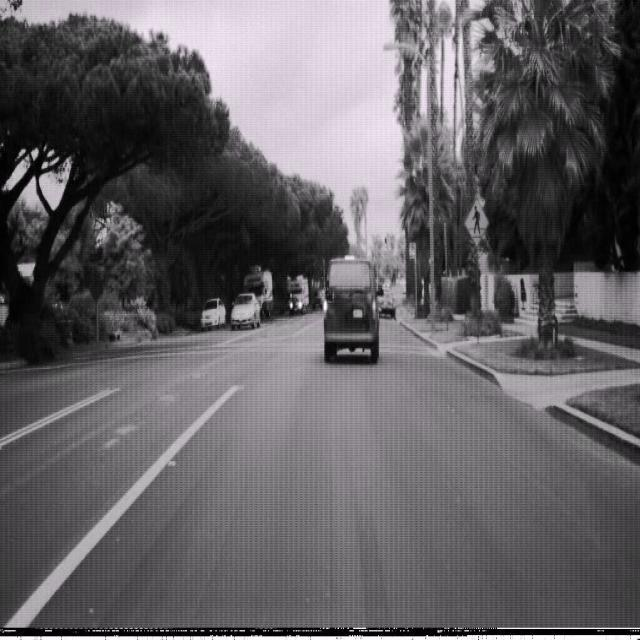pedestrianCrossing: (464, 195, 489, 248)
